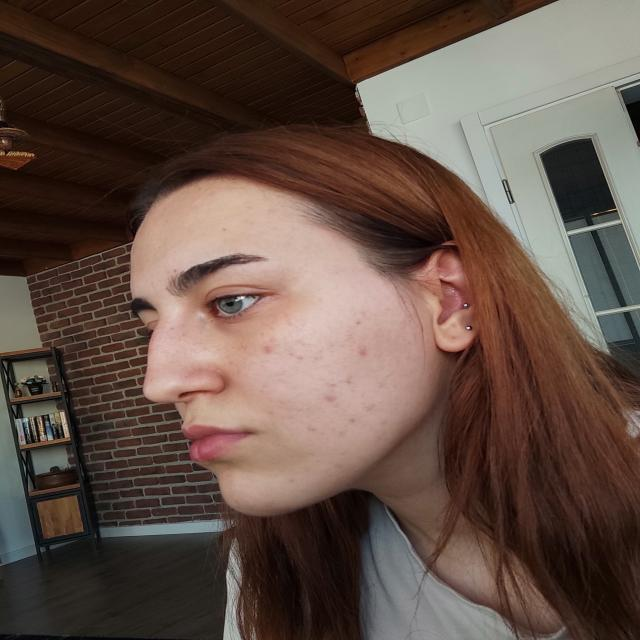Acne: (258, 343, 276, 355), (356, 344, 372, 356), (324, 392, 339, 404), (289, 352, 305, 363), (282, 476, 298, 486), (361, 403, 377, 413), (374, 419, 390, 428), (305, 426, 321, 434), (345, 374, 356, 385), (337, 428, 348, 439), (327, 381, 339, 389), (354, 319, 364, 328), (351, 418, 359, 424)
